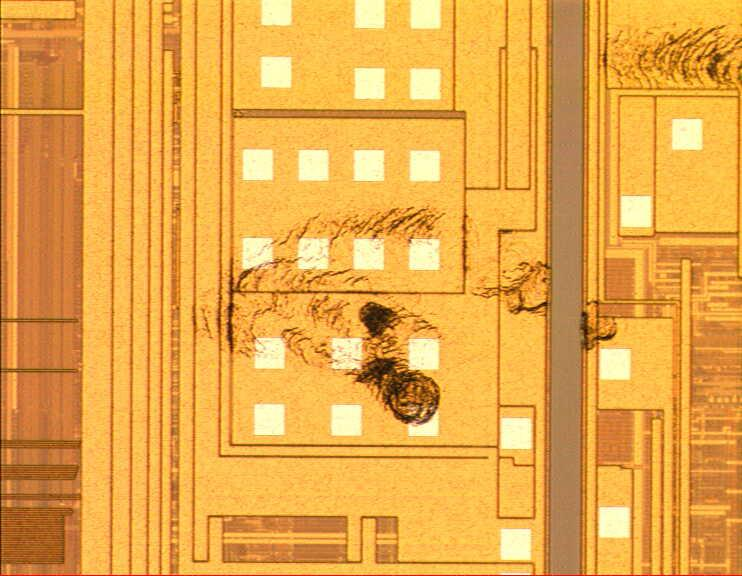SCRATCH: (138, 17, 742, 434)
